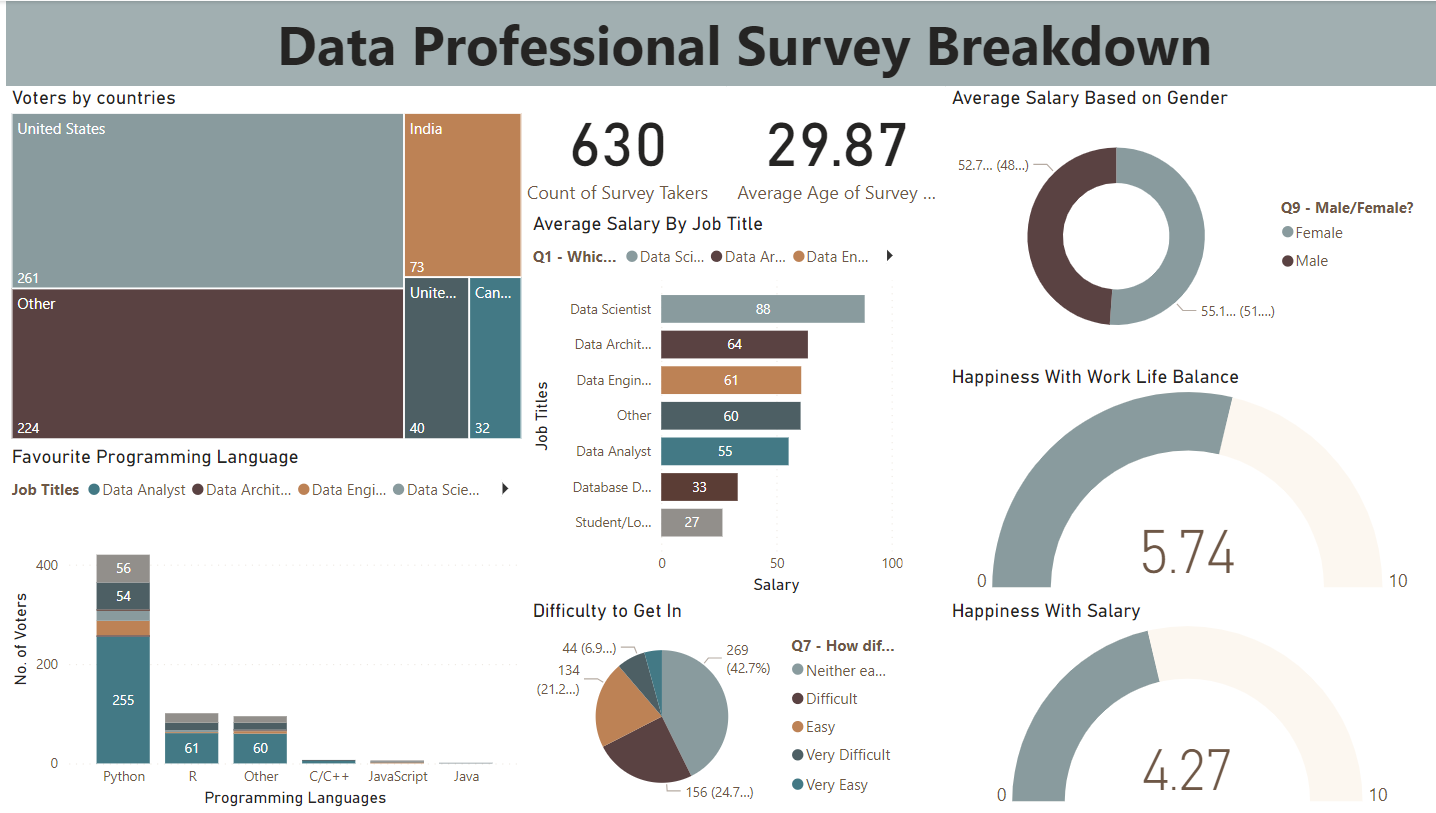

This screenshot's page, from the dashboard's own definition file:
{"tool":"powerbi","page":{"name":"Page 1","canvas":[1280,720],"ordinal":0},"visuals":[{"type":"textbox","box":[10.1,0,1269.9,75.7],"z":0},{"type":"card","fields":{"Values":["Count(Data Professional Survey.Unique ID)"]},"box":[454.4,75.7,194.4,111.1],"z":1000},{"type":"card","fields":{"Values":["Avg(Data Professional Survey.Q10 - Current Age)"]},"box":[648.8,75.7,194.4,111.1],"z":2000},{"type":"barChart","title":"Average Salary By Job Title","fields":{"Category":["Data Professional Survey.Q1 - Which Title Best Fits your Current Role?.1"],"Y":["Avg(Data Professional Survey.Average Salary)"],"Series":["Data Professional Survey.Q1 - Which Title Best Fits your Current Role?.1"]},"box":[472.1,186.8,338.3,343.4],"z":3000},{"type":"columnChart","title":"Favourite Programming Language ","fields":{"Category":["Data Professional Survey.Q5 - Favorite Programming Language.1"],"Y":["CountNonNull(Data Professional Survey.Unique ID)"],"Series":["Data Professional Survey.Q1 - Which Title Best Fits your Current Role?.1"]},"box":[10.1,393.8,462,325.7],"z":4000},{"type":"treemap","title":"Voters by countries","fields":{"Group":["Data Professional Survey.Q11 - Which Country do you live in?.1"],"Values":["CountNonNull(Data Professional Survey.Q11 - Which Country do you live in?.1)"]},"box":[10.1,75.7,462,318.1],"z":5000},{"type":"gauge","title":"Happiness With Work Life Balance","fields":{"Y":["Avg(Data Professional Survey.Q6 - How Happy are you in your Current Position with the following? (Work/Life Balance))"],"MinValue":["Min(Data Professional Survey.Q6 - How Happy are you in your Current Position with the following? (Work/Life Balance))1"],"MaxValue":["Max(Data Professional Survey.Q6 - How Happy are you in your Current Position with the following? (Work/Life Balance))2"]},"box":[843.2,323.2,436.8,207],"z":6000},{"type":"gauge","title":"Happiness With Salary","fields":{"MinValue":["Min(Data Professional Survey.Q6 - How Happy are you in your Current Position with the following? (Salary))1"],"MaxValue":["Max(Data Professional Survey.Q6 - How Happy are you in your Current Position with the following? (Salary))2"],"Y":["Avg(Data Professional Survey.Q6 - How Happy are you in your Current Position with the following? (Salary))"]},"box":[843.2,530.2,436.8,189.3],"z":7000},{"type":"donutChart","title":" Average Salary Based on Gender","fields":{"Category":["Data Professional Survey.Q9 - Male/Female?"],"Y":["Avg(Data Professional Survey.Average Salary)"]},"box":[843.2,75.7,436.8,247.4],"z":8000},{"type":"pieChart","title":"Difficulty to Get In","fields":{"Y":["CountNonNull(Data Professional Survey.Q7 - How difficult was it for you to break into Data?)"],"Category":["Data Professional Survey.Q7 - How difficult was it for you to break into Data?"]},"box":[472.1,530.2,338.3,189.3],"z":8001}]}

Visuals, with their boxes in screenshot pixels (x1, y1, x2, y2), scaled from the page's 1280x720 canvas onto the 1436x813 screenshot:
textbox: bbox(11, 0, 1435, 85)
card - Count(Data Professional Survey.Unique ID): bbox(510, 85, 728, 211)
card - Avg(Data Professional Survey.Q10 - Current Age): bbox(728, 85, 946, 211)
"Average Salary By Job Title" barChart: bbox(530, 211, 909, 599)
"Favourite Programming Language " columnChart: bbox(11, 445, 530, 812)
"Voters by countries" treemap: bbox(11, 85, 530, 445)
"Happiness With Work Life Balance" gauge: bbox(946, 365, 1435, 599)
"Happiness With Salary" gauge: bbox(946, 599, 1435, 812)
" Average Salary Based on Gender" donutChart: bbox(946, 85, 1435, 365)
"Difficulty to Get In" pieChart: bbox(530, 599, 909, 812)
